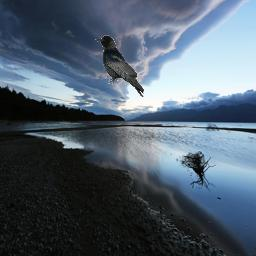Crow: (94, 35, 144, 97)
